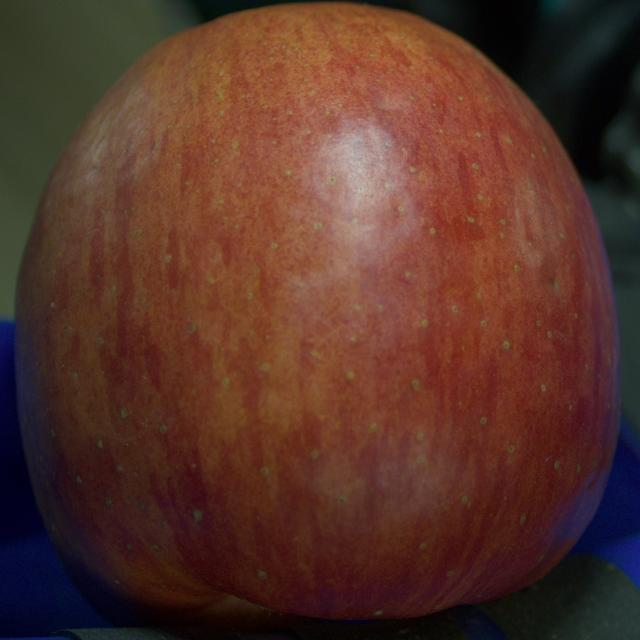apple: (14, 3, 619, 626)
